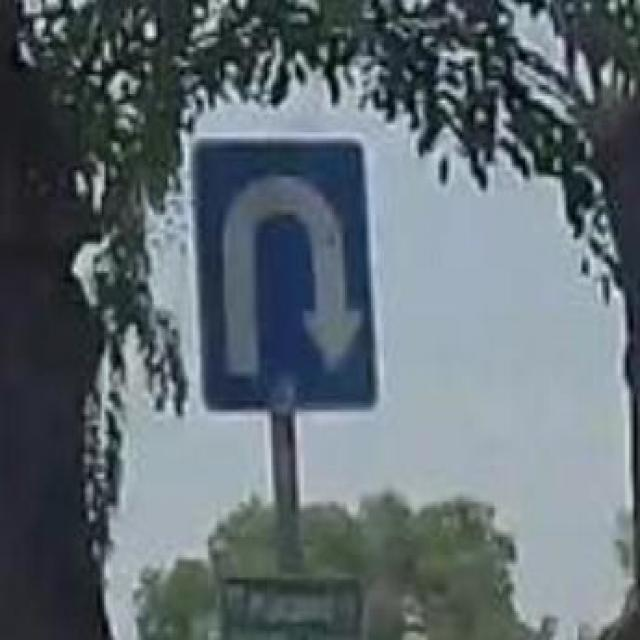traffic sign: (193, 136, 380, 414)
